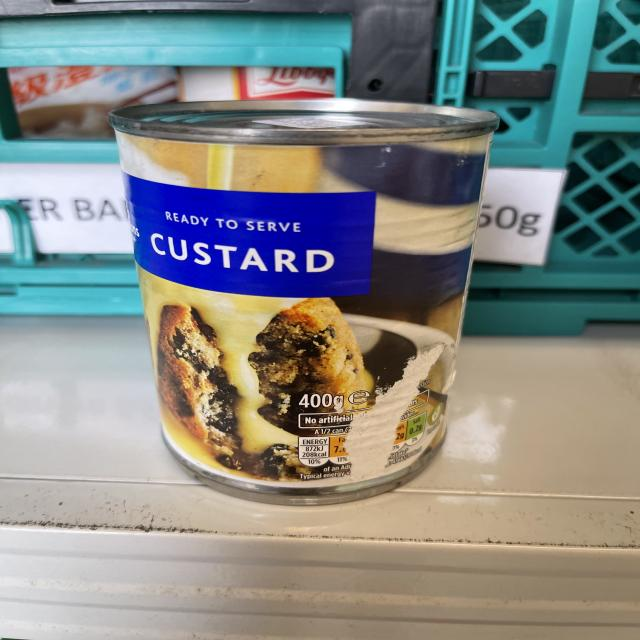object_name: (107, 103, 479, 494)
